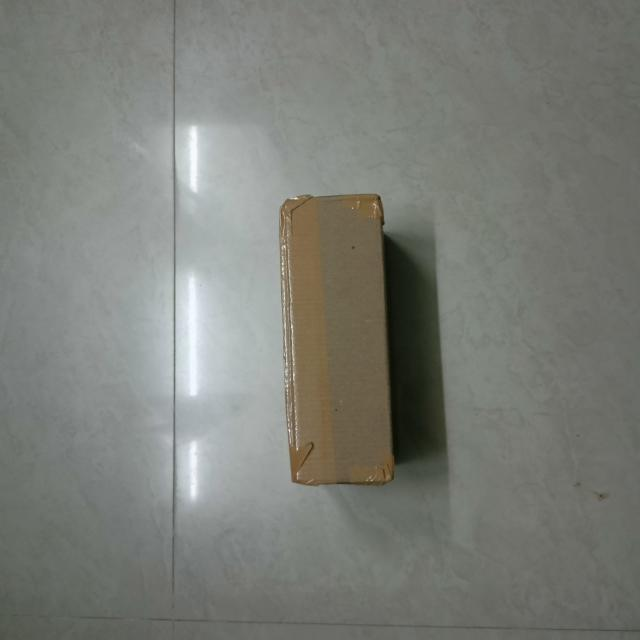box: (283, 197, 390, 485)
